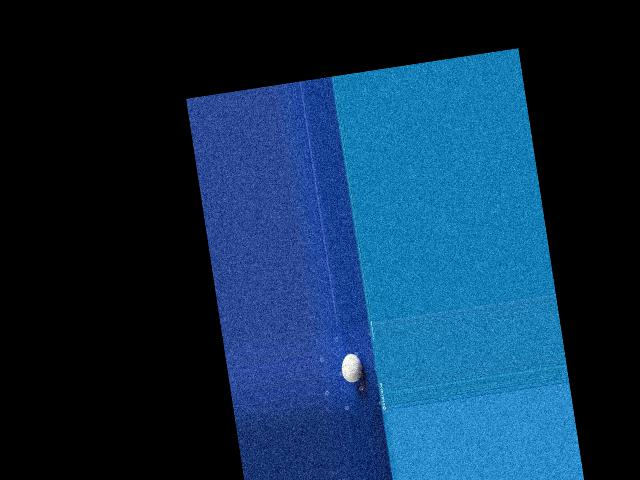egg: (340, 352, 364, 383)
